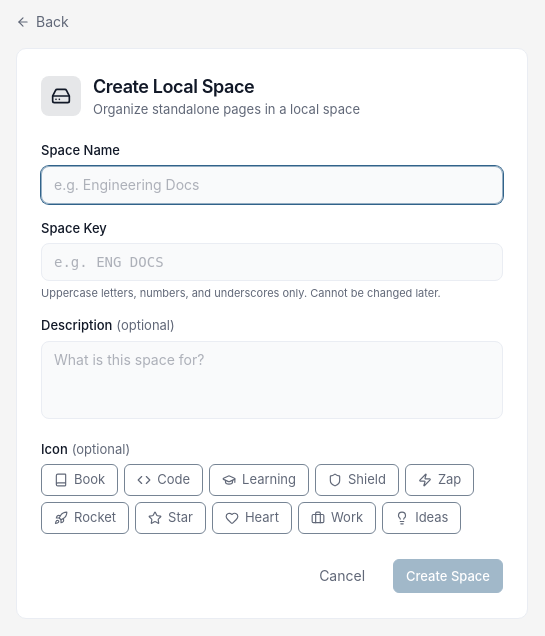
NewSpacePage › auto-generates key from name
Type "My Engineering Docs" into the field labelled "Space Name" at coordinates (272, 185), box [41,166,503,204]
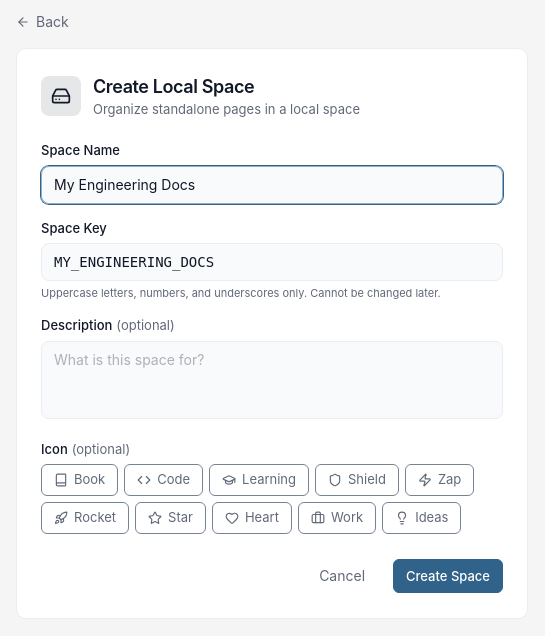
expect the field labelled "Space Key" holds "MY_ENGINEERING_DOCS": met, box [41,243,503,281]
